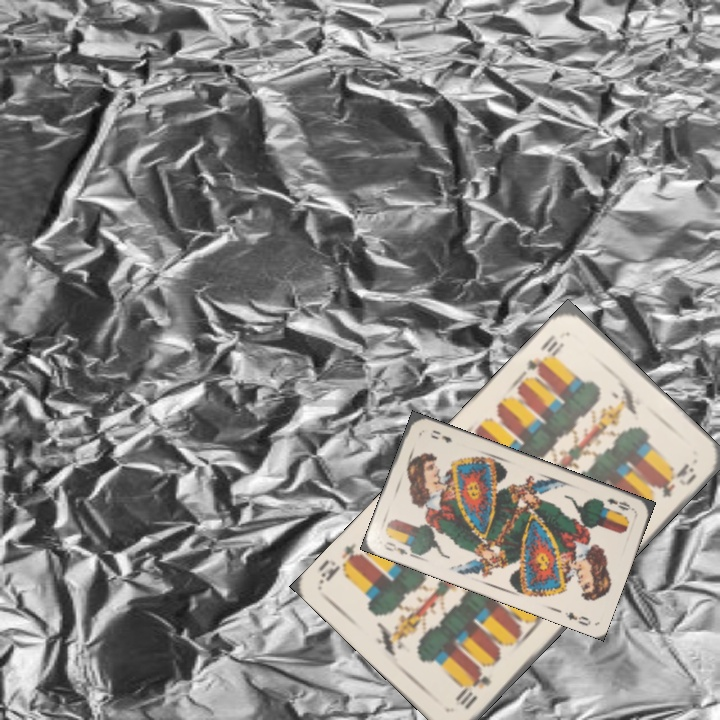E10: (451, 661, 494, 712), (522, 330, 567, 377)
EO: (379, 537, 417, 560), (603, 494, 636, 514)
